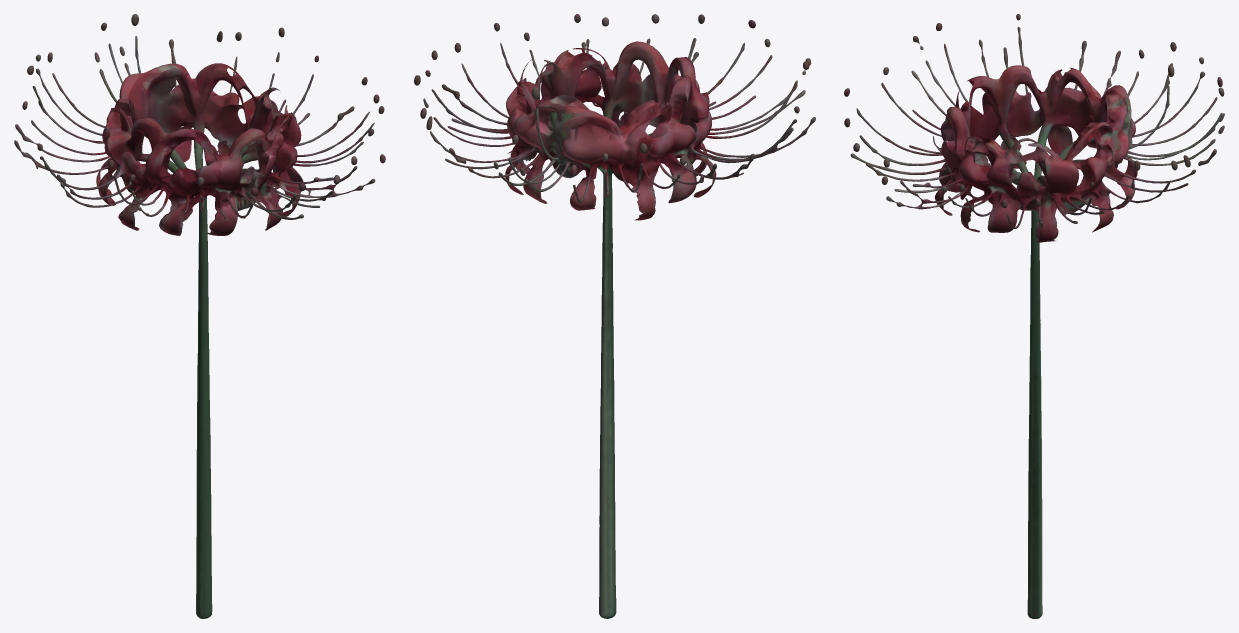
The model's file is 26ugbsku.glb.
The picture shows the model from 3 angles, left to right: view 1: azimuth 30°, elevation 25°; view 2: azimuth 150°, elevation 25°; view 3: azimuth 270°, elevation 25°; orthographic projection. The views are drawn at different scales.
Parts seen in each view (by area): view 1: input; view 2: input; view 3: input.
Boxes of the visible parts, bbox=[...] form: input: bbox=[14, 14, 385, 618]; input: bbox=[414, 14, 815, 618]; input: bbox=[844, 14, 1224, 618].
Bounding box in the file's own units: 0.449 × 0.7 × 0.4377.
1 material, 1 textured.
